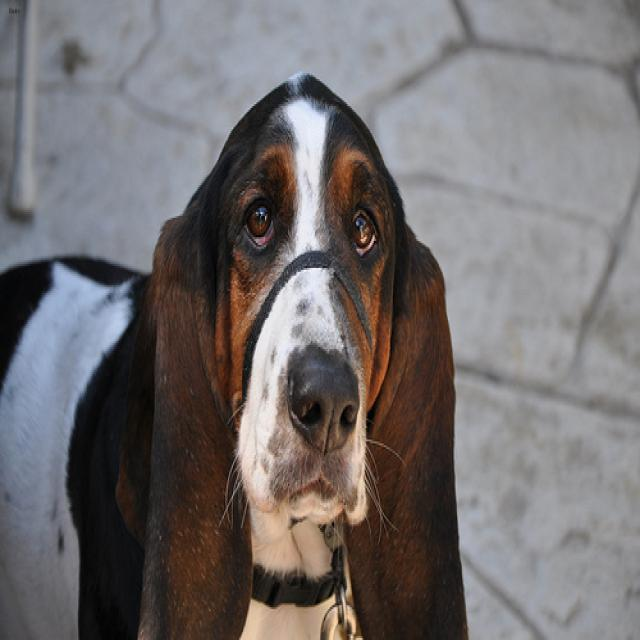dog-basset_hound: (1, 58, 479, 636)
